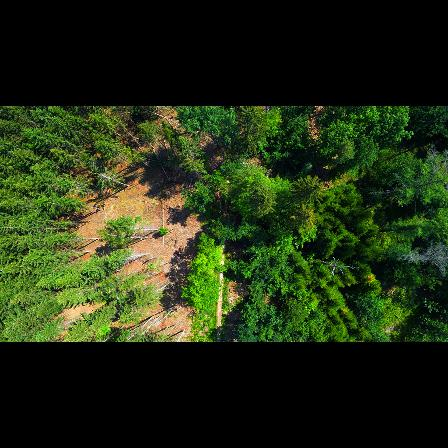Dead: (396, 245, 448, 273), (319, 255, 362, 276)
